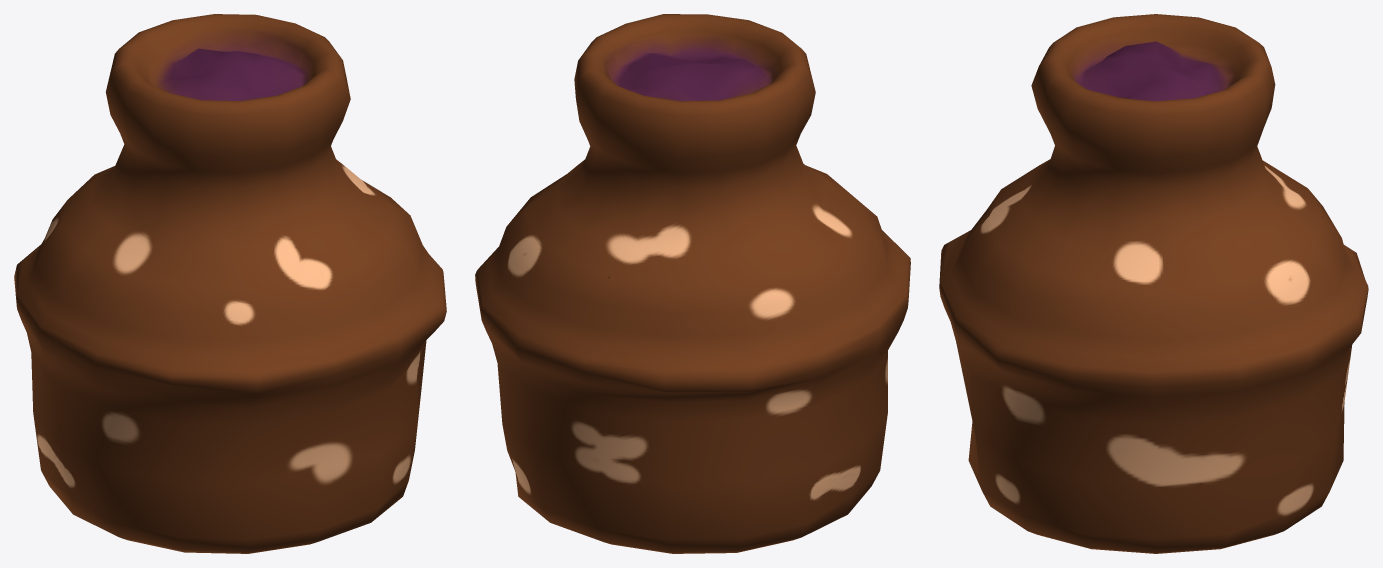
File: pot.glb
3 renders of one model, left to right at view 1: azimuth 30°, elevation 25°; view 2: azimuth 150°, elevation 25°; view 3: azimuth 270°, elevation 25°, orthographic.
Parts seen in each view (by area): view 1: Pot.001; view 2: Pot.001; view 3: Pot.001.
Part boxes in pixels (left/top/right/bottom): Pot.001: left=14, top=14, right=446, bottom=553; Pot.001: left=475, top=14, right=910, bottom=553; Pot.001: left=939, top=14, right=1368, bottom=553.
Size of the model in its own units: 1.83 by 2 by 1.82.
Materials: 1 (1 with a texture image).
